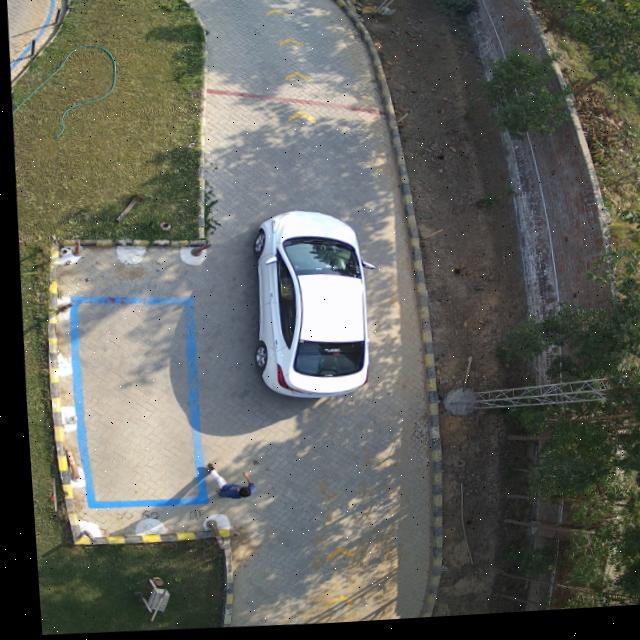car: (249, 214, 367, 401)
